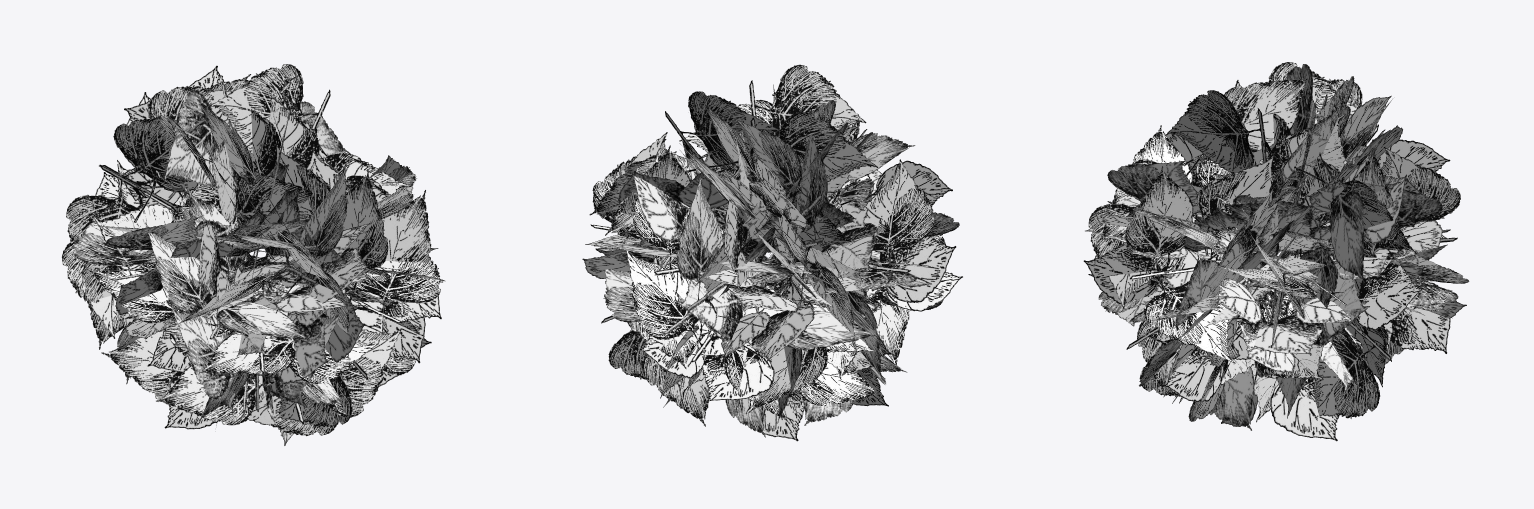
File: leaves.fbx
The picture shows the model from 3 angles, left to right: view 1: azimuth 30°, elevation 25°; view 2: azimuth 150°, elevation 25°; view 3: azimuth 270°, elevation 25°; orthographic projection.
Parts seen in each view (by area): view 1: MASH1_ReproMesh; view 2: MASH1_ReproMesh; view 3: MASH1_ReproMesh.
Boxes of the visible parts, bbox=[...] form: MASH1_ReproMesh: bbox=[61, 64, 445, 445]; MASH1_ReproMesh: bbox=[582, 64, 962, 441]; MASH1_ReproMesh: bbox=[1083, 62, 1469, 441].
Bounding box in the file's own units: 1.4 × 1.36 × 1.41.
